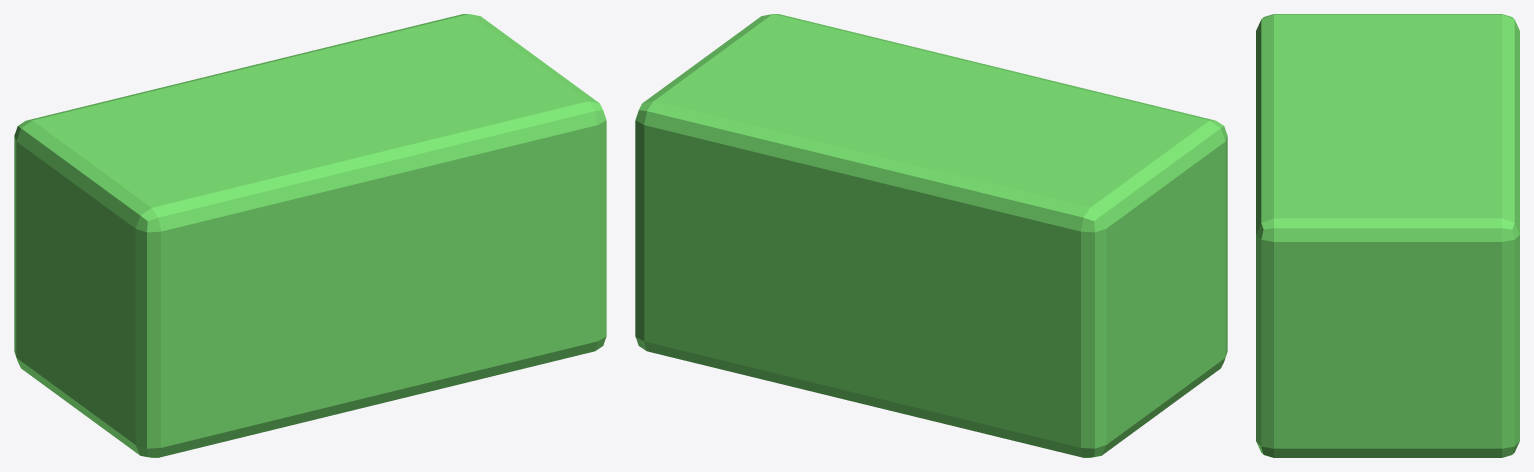
Rendered from block_rectangle.fbx.
The picture shows the model from 3 angles, left to right: view 1: azimuth 30°, elevation 25°; view 2: azimuth 150°, elevation 25°; view 3: azimuth 270°, elevation 25°; orthographic projection. The views are drawn at different scales.
Visible parts, largest first — view 1: Rectangle; view 2: Rectangle; view 3: Rectangle.
Boxes of the visible parts, box(x1,y1,x2,y2) form: Rectangle: box(14, 14, 606, 457); Rectangle: box(635, 14, 1227, 457); Rectangle: box(1256, 14, 1519, 457).
Size of the model in its own units: 101 by 51.72 by 51.72.
